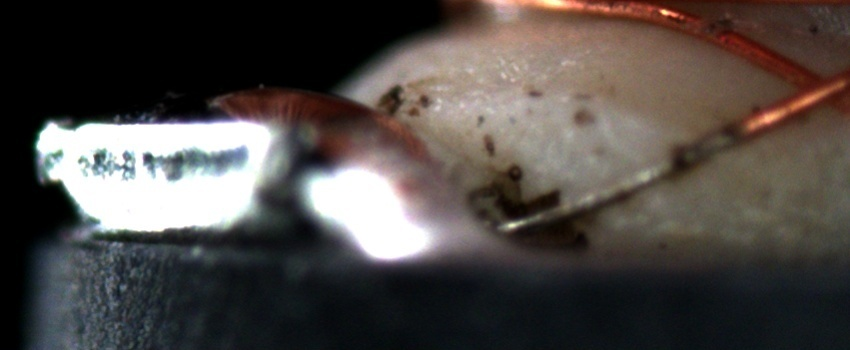CL: (771, 55, 847, 115)
TS: (492, 127, 744, 233)
TTCW: (497, 88, 780, 228)
